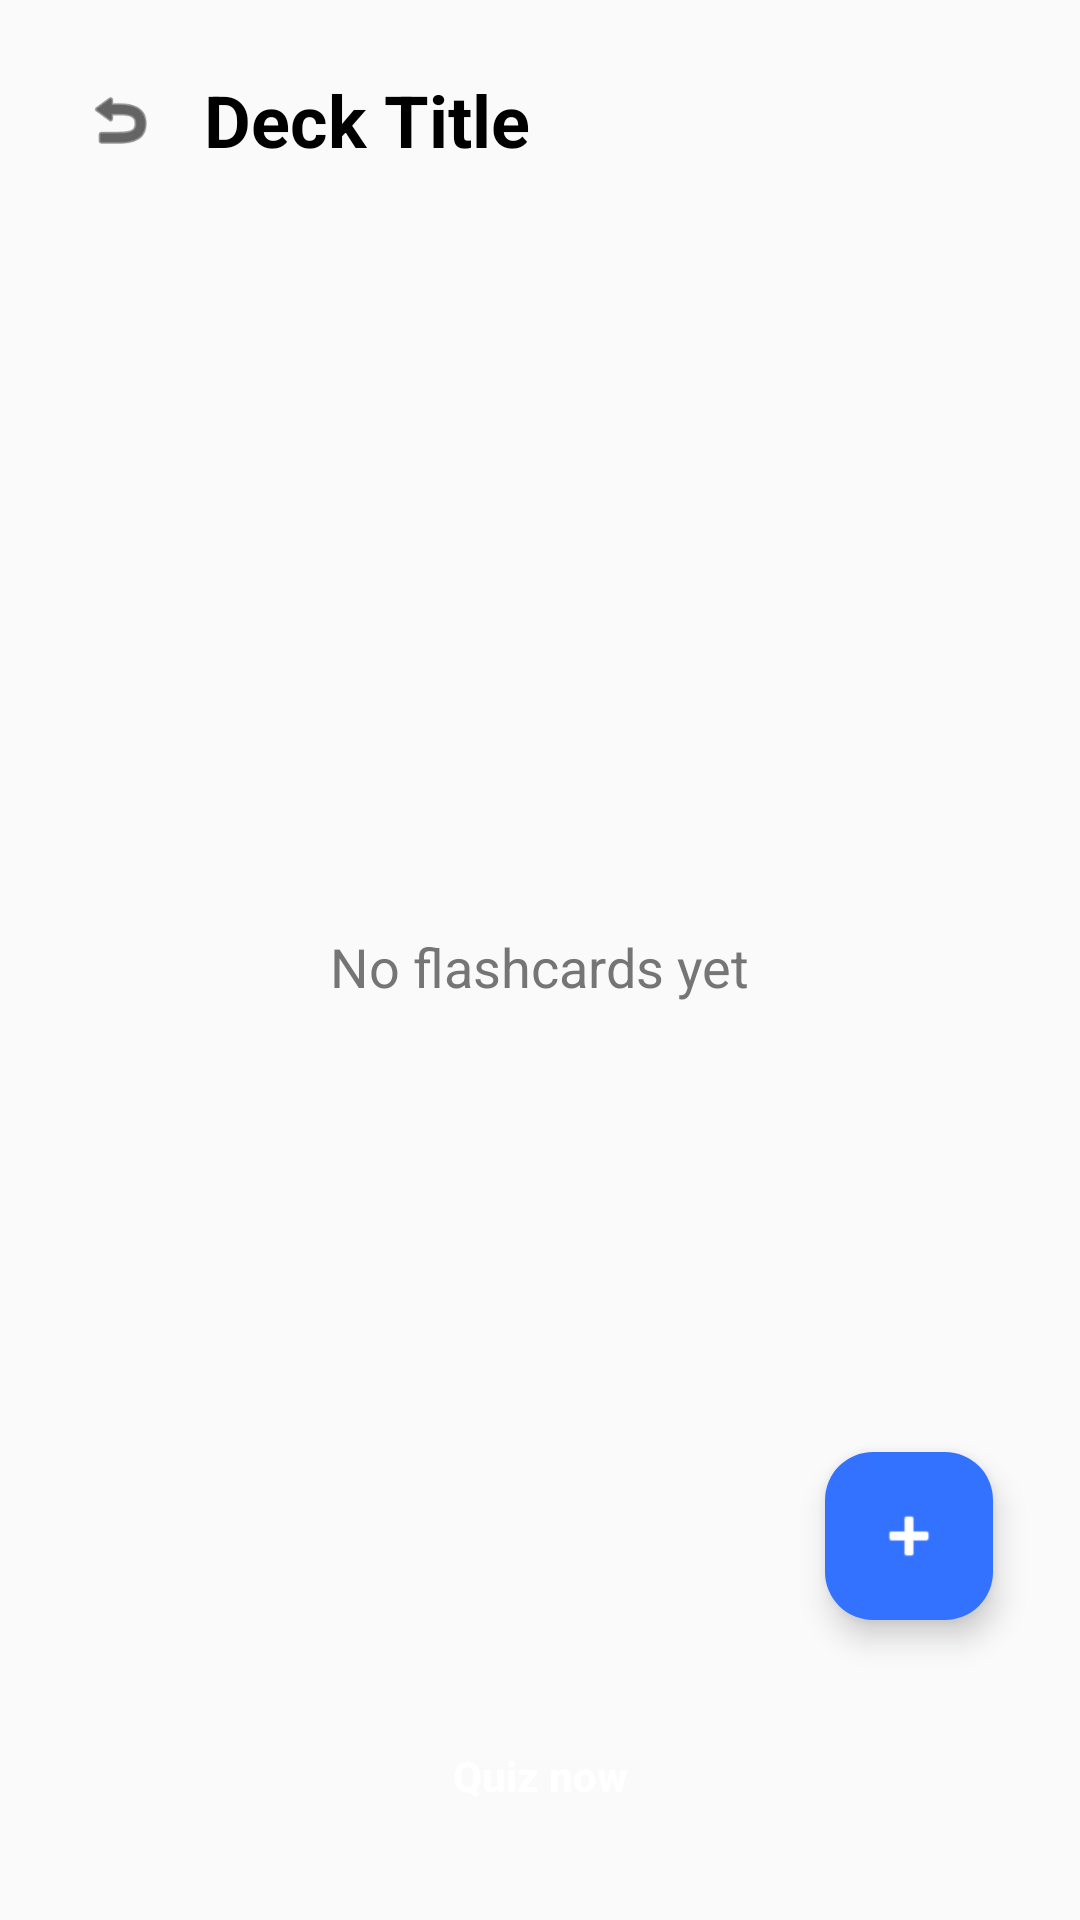

Where icons sit on this 1080*1920 app screen, as (x1, y1, x2, y2):
add: (825, 1452, 993, 1620)
revert: (95, 97, 147, 144)
